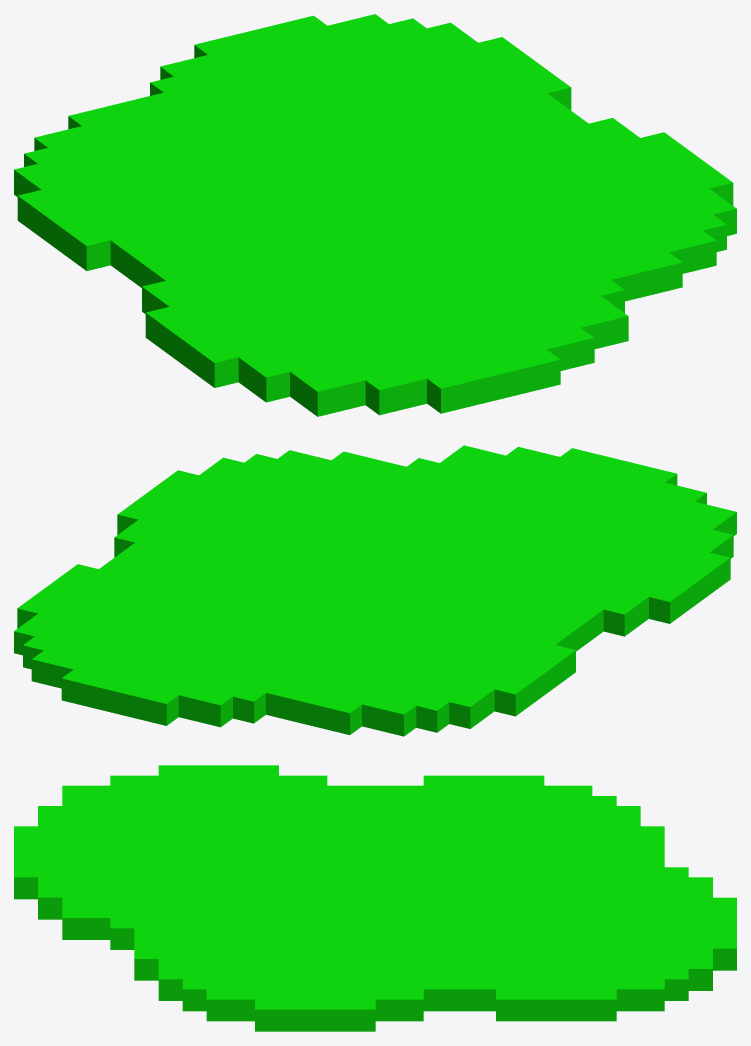
The model's file is Sludge2.dae.
3 views of the same model, one above another, from view 1: azimuth 30°, elevation 25°; view 2: azimuth 150°, elevation 25°; view 3: azimuth 270°, elevation 25° (orthographic). The views are drawn at different scales.
Parts seen in each view (by area): view 1: sludge2.merged; view 2: sludge2.merged; view 3: sludge2.merged.
Part boxes in pixels (bbox=[...]): sludge2.merged: bbox=[14, 14, 736, 416]; sludge2.merged: bbox=[14, 445, 736, 736]; sludge2.merged: bbox=[14, 765, 736, 1031].
Size of the model in its own units: 2.4 by 0.1 by 3.
Materials: 1 (1 with a texture image).
